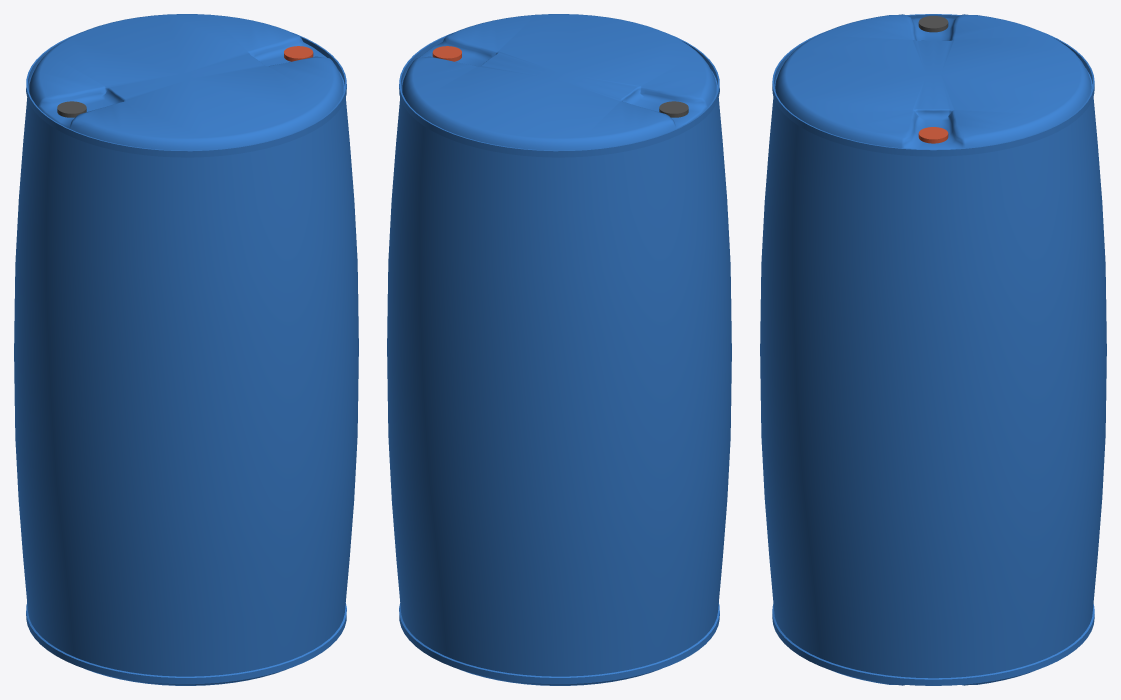
The model's file is barrel105.dae.
The picture shows the model from 3 angles, left to right: view 1: azimuth 30°, elevation 25°; view 2: azimuth 150°, elevation 25°; view 3: azimuth 270°, elevation 25°; orthographic projection.
Visible parts, largest first — view 1: Cylinder; view 2: Cylinder; view 3: Cylinder.
Boxes of the visible parts, x1,y1,x2,y2 form: Cylinder: (14, 14, 358, 685); Cylinder: (387, 14, 731, 685); Cylinder: (760, 14, 1106, 685).
Bounding box in the file's own units: 0.6 × 0.6 × 1.05.
